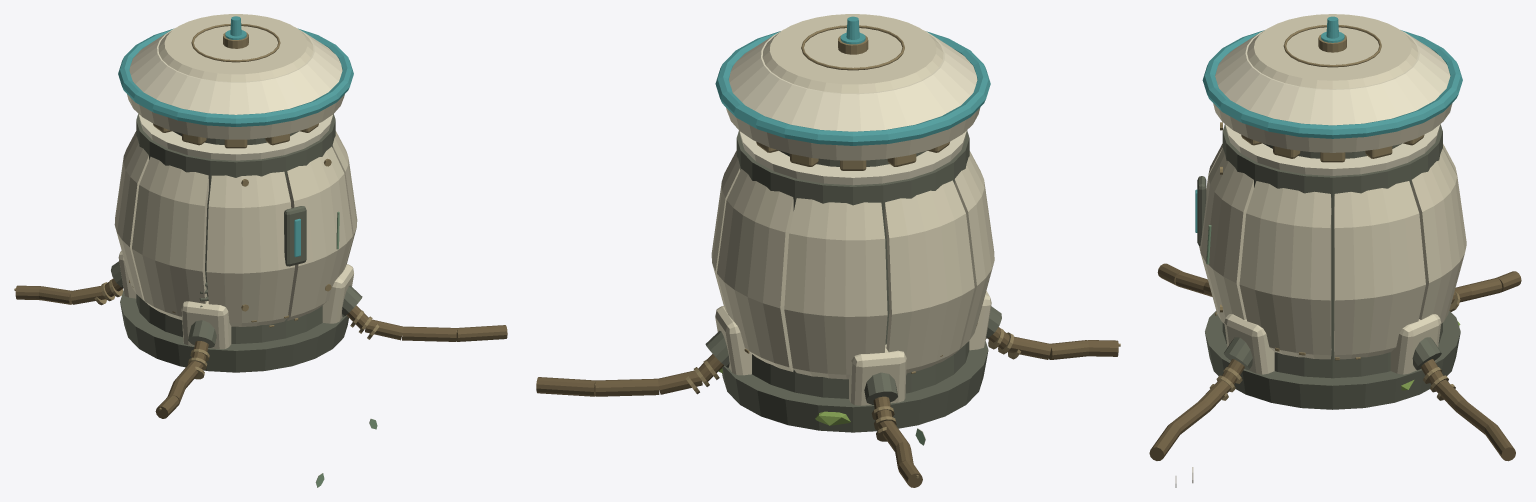
Rendered from Lake_Power_Station_Dormant.glb.
3 renders of one model, left to right at view 1: azimuth 30°, elevation 25°; view 2: azimuth 150°, elevation 25°; view 3: azimuth 270°, elevation 25°, orthographic. The views are drawn at different scales.
Visible parts, largest first — view 1: Structure, Lights; view 2: Structure, Lights; view 3: Structure, Lights.
Part boxes in pixels (box(x1,y1,x2,y2)): Structure: box(14, 14, 507, 487); Lights: box(118, 16, 353, 256); Structure: box(536, 14, 1120, 487); Lights: box(715, 16, 990, 145); Structure: box(1149, 14, 1521, 487); Lights: box(1195, 16, 1462, 232).
Bounding box in the file's own units: 3.68 × 4.27 × 3.11.
